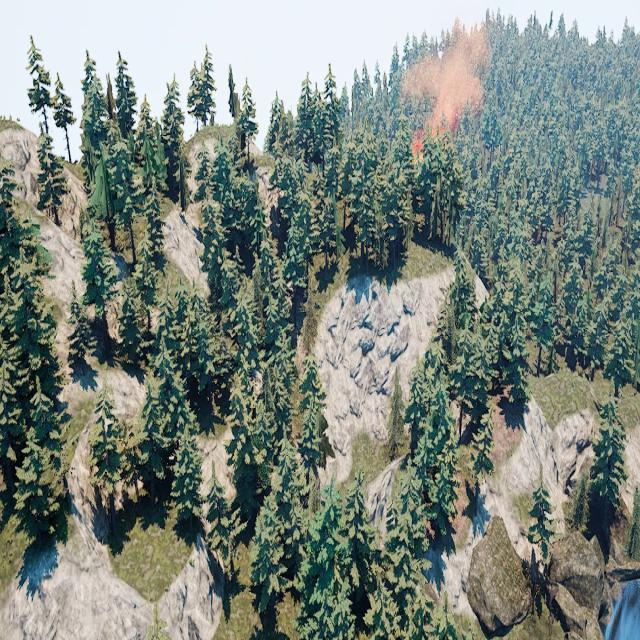fire: (413, 140, 425, 162)
smoke: (399, 18, 489, 143)
